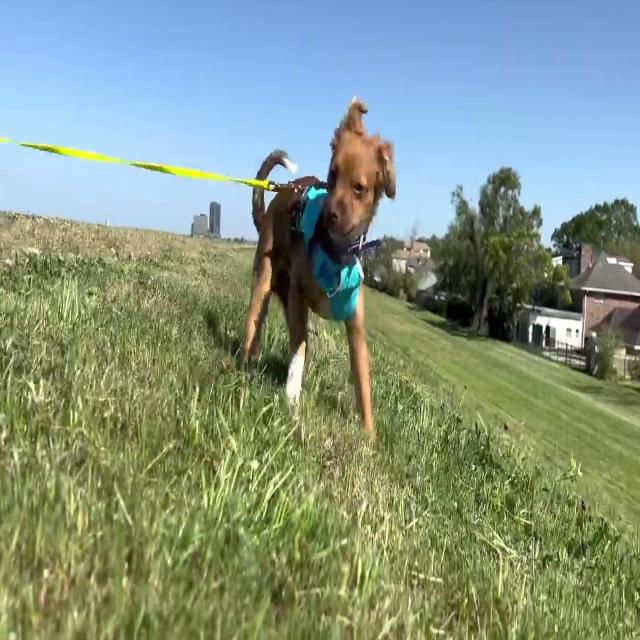Dog: (244, 94, 396, 434)
